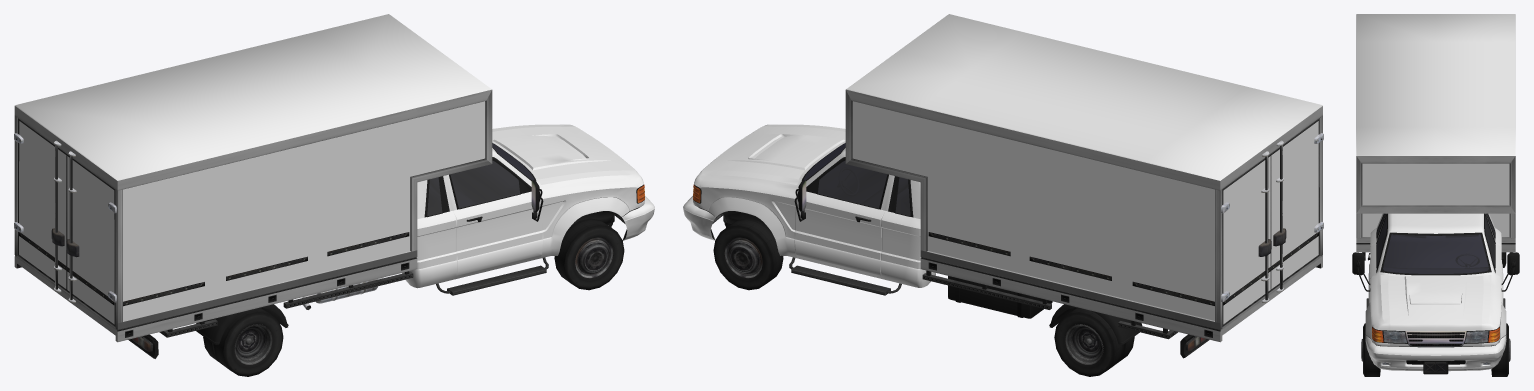
File: Moving Truck.fbx
3 renders of one model, left to right at view 1: azimuth 30°, elevation 25°; view 2: azimuth 150°, elevation 25°; view 3: azimuth 270°, elevation 25°, orthographic. The views are drawn at different scales.
Parts seen in each view (by area): view 1: hood.001, Empty.002, wheels.001, bottom.002, glass.002, interior.001; view 2: hood.001, Empty.002, wheels.001, bottom.002, glass.002, interior.001; view 3: hood.001, Empty.002, glass.002, interior.001, grill.001, wheels.001.
Part boxes in pixels (bbox=[...]): hood.001: bbox=[15, 14, 654, 324]; Empty.002: bbox=[14, 89, 644, 358]; wheels.001: bbox=[203, 218, 624, 376]; bottom.002: bbox=[14, 133, 413, 344]; glass.002: bbox=[427, 143, 534, 216]; interior.001: bbox=[428, 143, 533, 215]; hood.001: bbox=[683, 14, 1322, 324]; Empty.002: bbox=[693, 89, 1322, 358]; wheels.001: bbox=[713, 218, 1134, 376]; bottom.002: bbox=[922, 133, 1323, 344]; glass.002: bbox=[803, 143, 910, 216]; interior.001: bbox=[804, 143, 909, 215]; hood.001: bbox=[1356, 14, 1515, 371]; Empty.002: bbox=[1352, 156, 1519, 374]; glass.002: bbox=[1376, 213, 1495, 273]; interior.001: bbox=[1377, 214, 1494, 273]; grill.001: bbox=[1393, 331, 1478, 364]; wheels.001: bbox=[1361, 323, 1510, 376].
Bounding box in the file's own units: 625 × 246 × 209.
